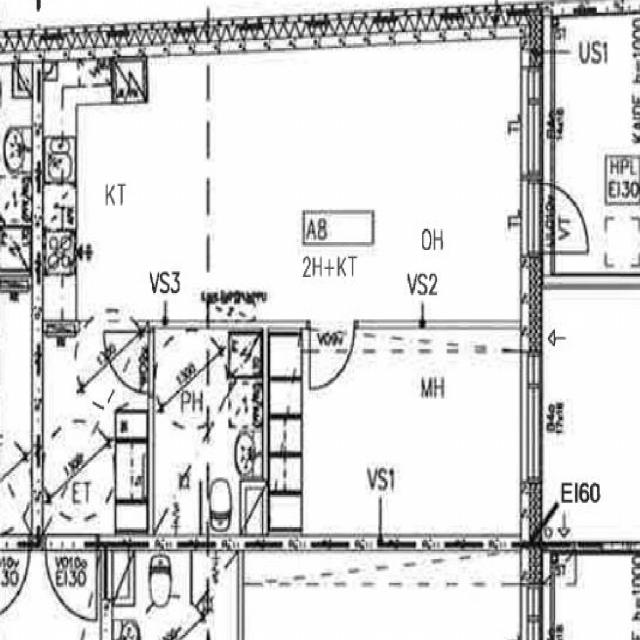door: (520, 183, 593, 252), (44, 534, 96, 620), (102, 332, 154, 394), (310, 319, 355, 390)
